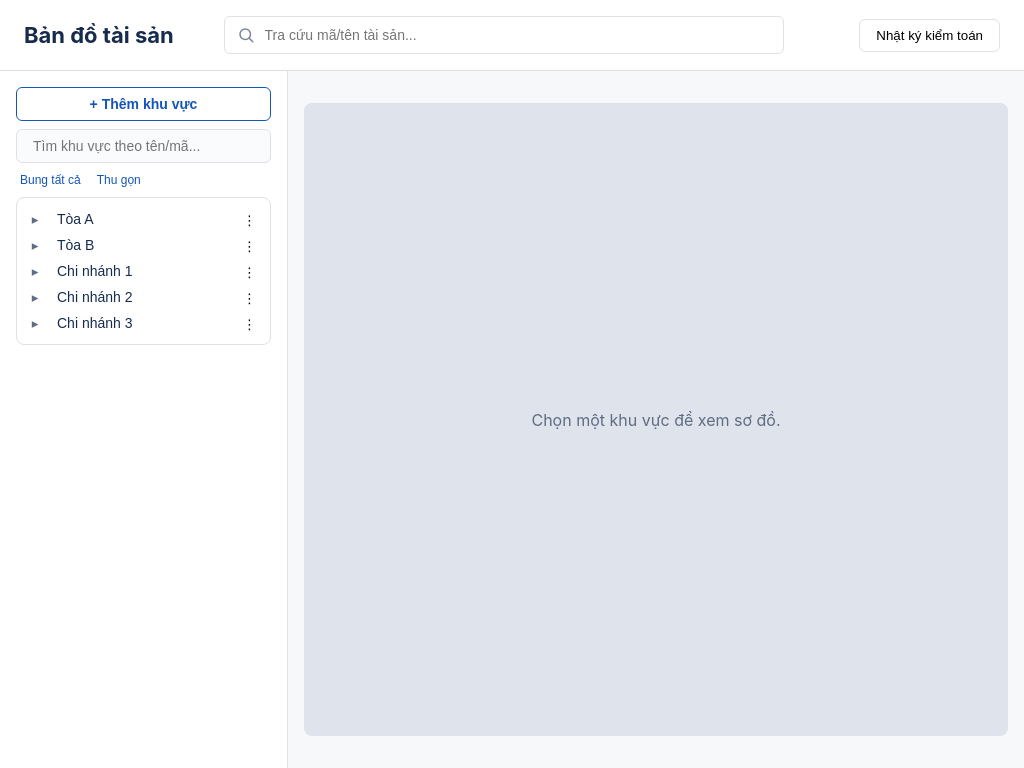
Scenario: Workspace S01 — xem sơ đồ › TC-S01-05: chọn Phòng 305 → breadcrumb + khung sơ đồ
Step 1. Click the button named "Mở Tòa A" → (35,219), box [25,210,45,228]
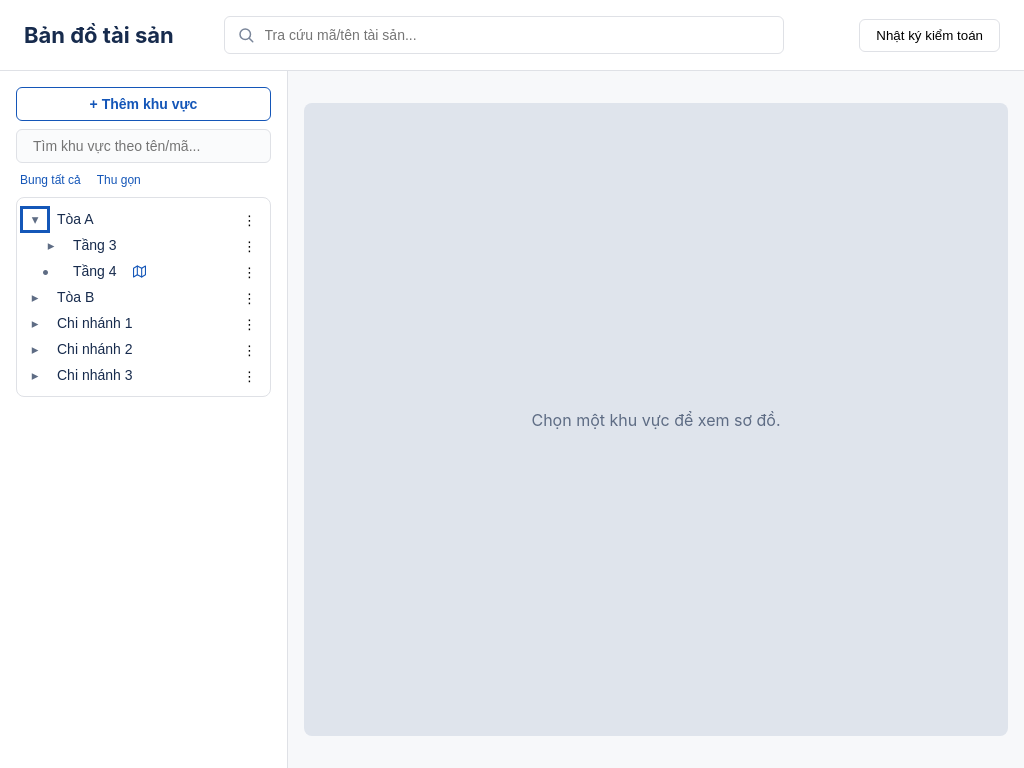
Step 2. Click the button named "Mở Tầng 3" → (51,245), box [41,236,61,254]
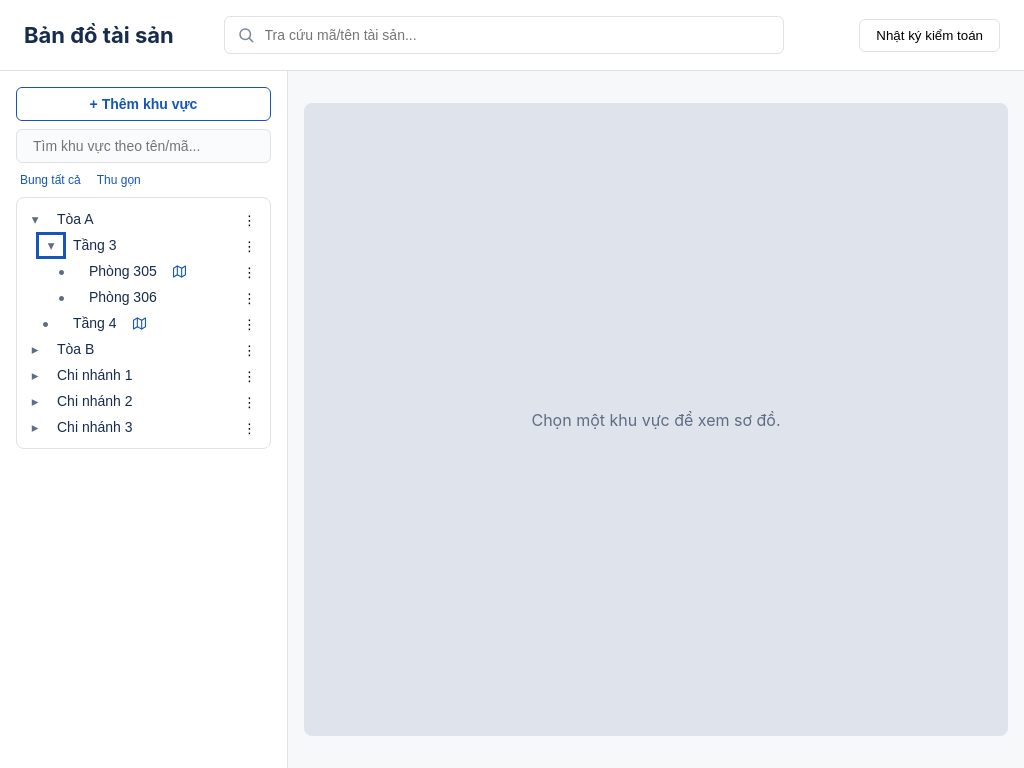
Step 3. Click the button "Phòng 305" → (123,271), box [81,258,165,284]
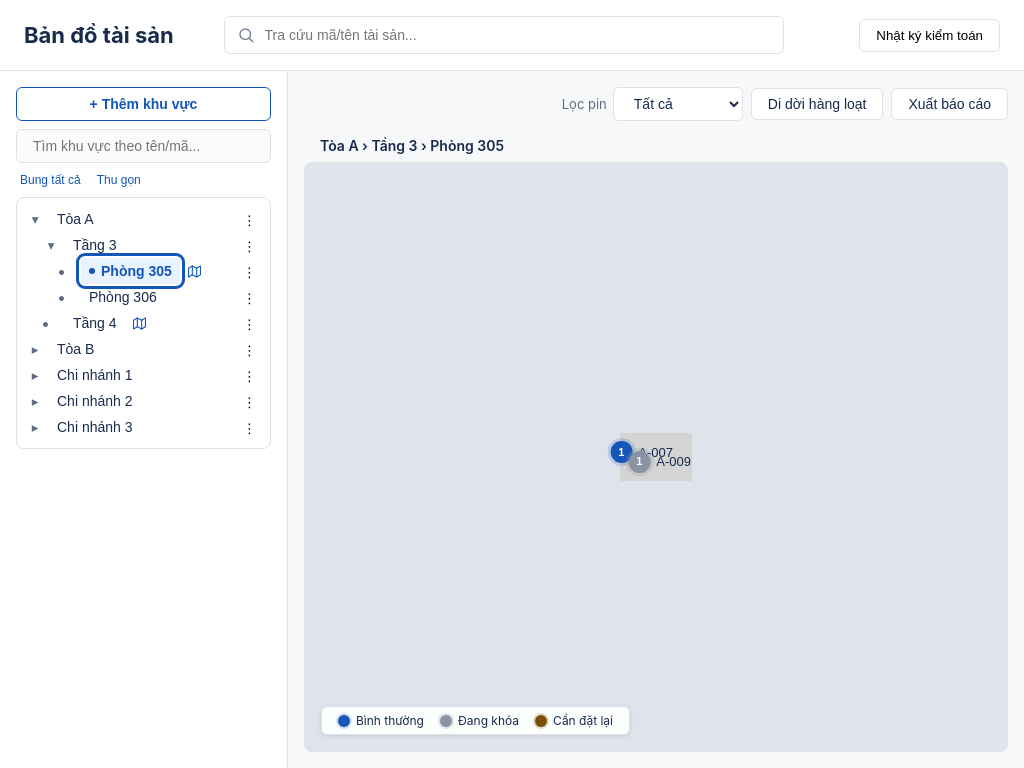
Expected: the text "Tòa A › Tầng 3 › Phòng 305" is shown, [320,137,504,154]
